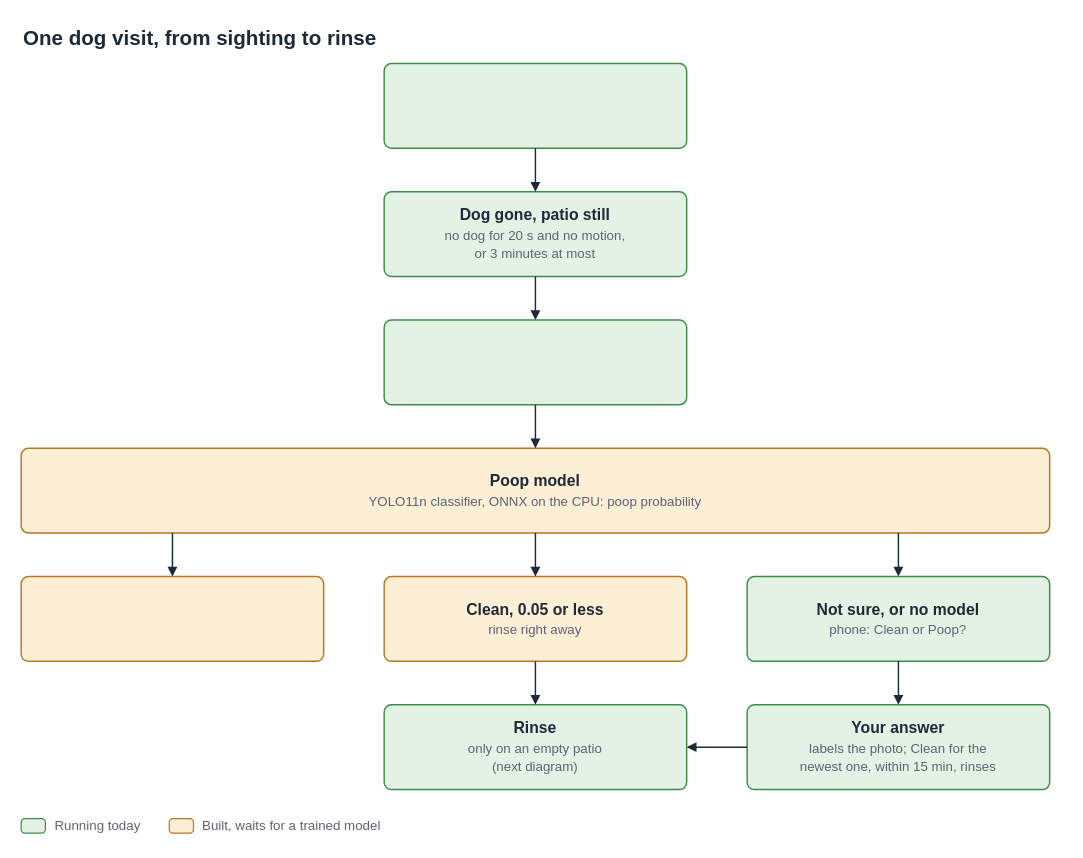
Some shapes in this 1083 by 858 pixel diagram are drawn without their labels. Here are the shapes that lost their labels. From the top down, the box of each, then its label:
(383, 62, 687, 148): Dog in view Frigate on the NPU opens a visit
(383, 319, 687, 405): Check photo floor cropped to 640 px, full frame kept too
(20, 575, 324, 661): Poop, 0.5 or more phone alert and Alexa; hose stays off
